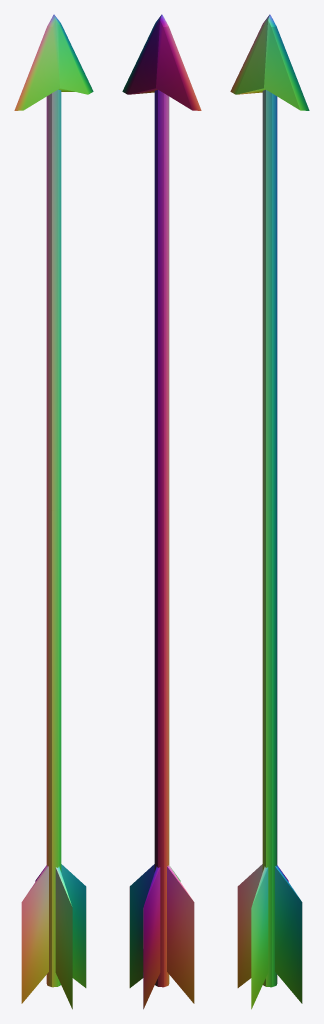
File: StandardArrow.obj
3 renders of one model, left to right at view 1: azimuth 30°, elevation 25°; view 2: azimuth 150°, elevation 25°; view 3: azimuth 330°, elevation 25°, orthographic.
Visible parts, largest first — view 1: Cube_Cube.001; view 2: Cube_Cube.001; view 3: Cube_Cube.001.
Boxes of the visible parts, left/top/right/bottom form: Cube_Cube.001: left=14, top=14, right=93, bottom=1009; Cube_Cube.001: left=122, top=14, right=201, bottom=1009; Cube_Cube.001: left=230, top=14, right=309, bottom=1009.
Size of the model in its own units: 0.051 by 0.6038 by 0.0415.
